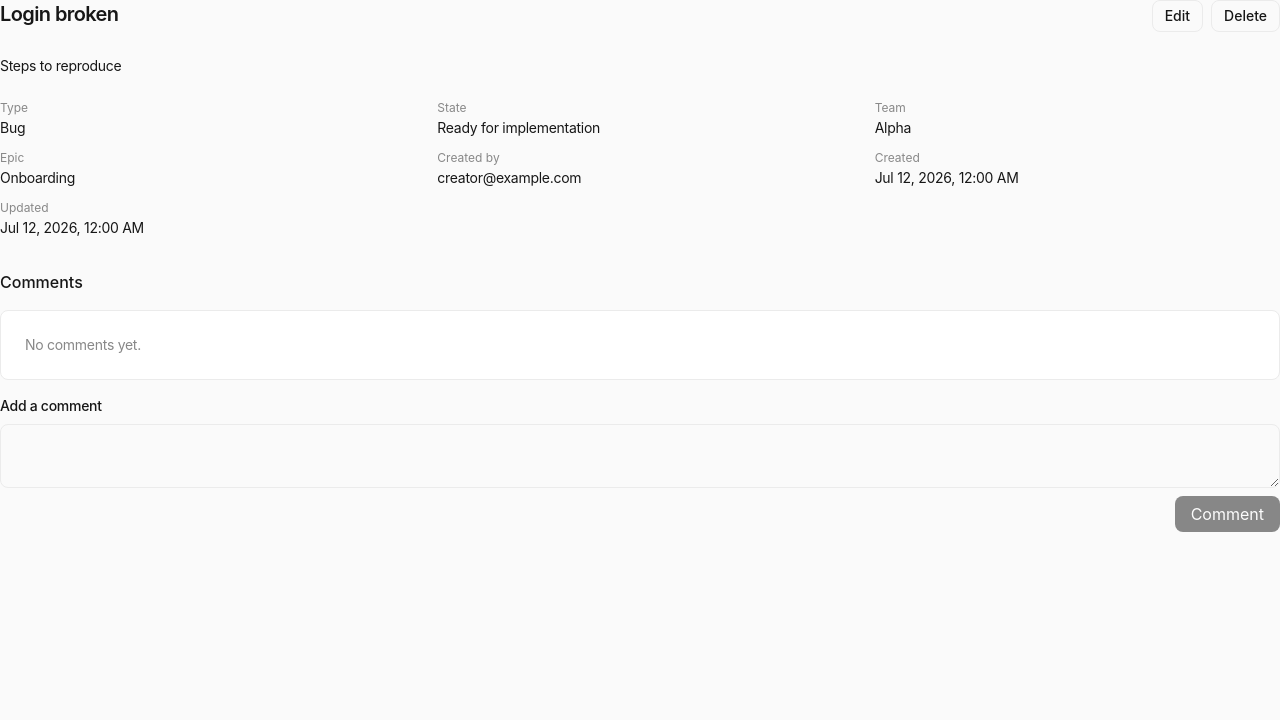
Scenario: TicketDetailsPage › edit_shouldUpdateView_whenSaved
Click the button "Edit". click: (1177, 16)
box: [1152, 0, 1203, 32]
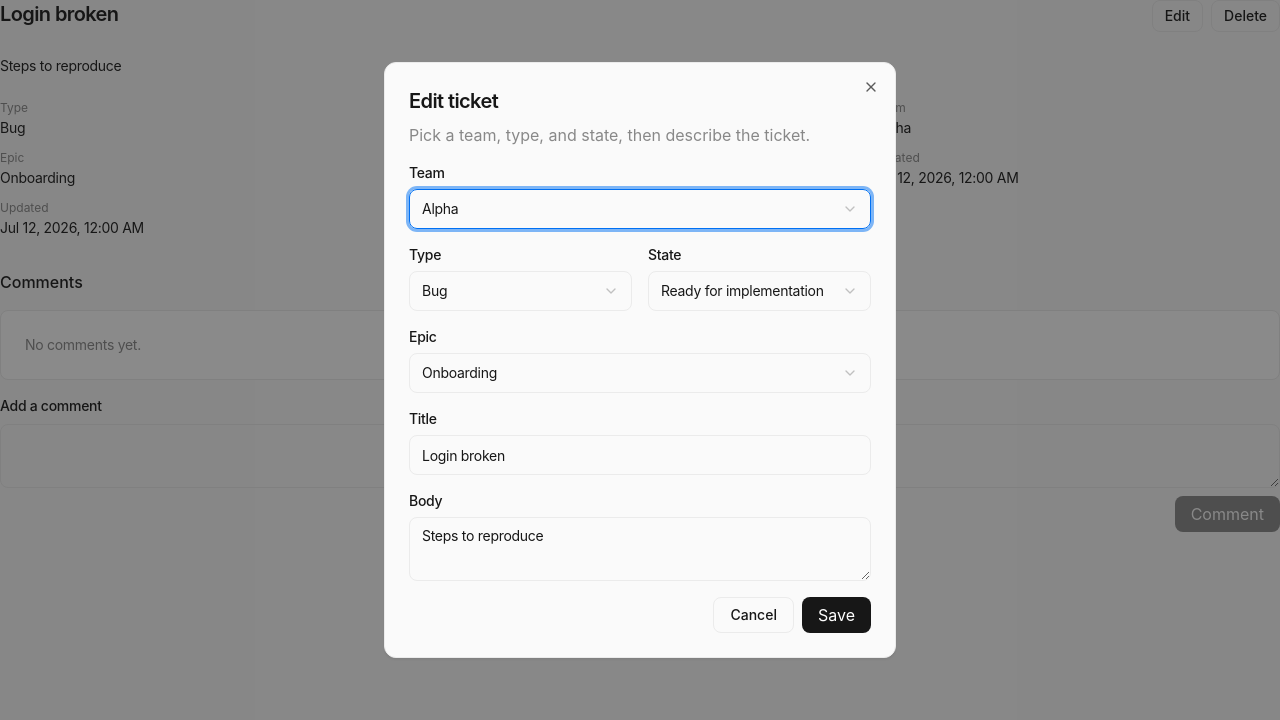
Replace the text in the field labelled "Title" with "Login page 500s". click: (640, 455)
box: [409, 435, 871, 475]
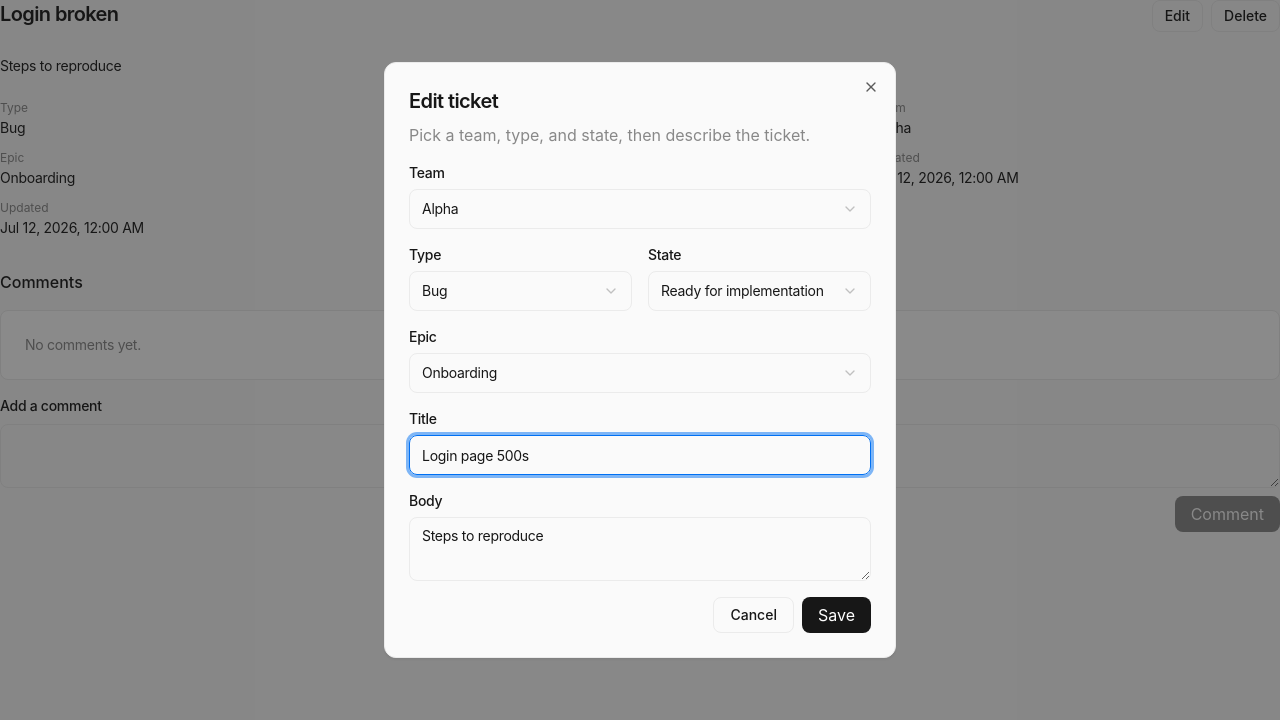
Click the button "Save". click: (836, 615)
box: [802, 597, 871, 633]
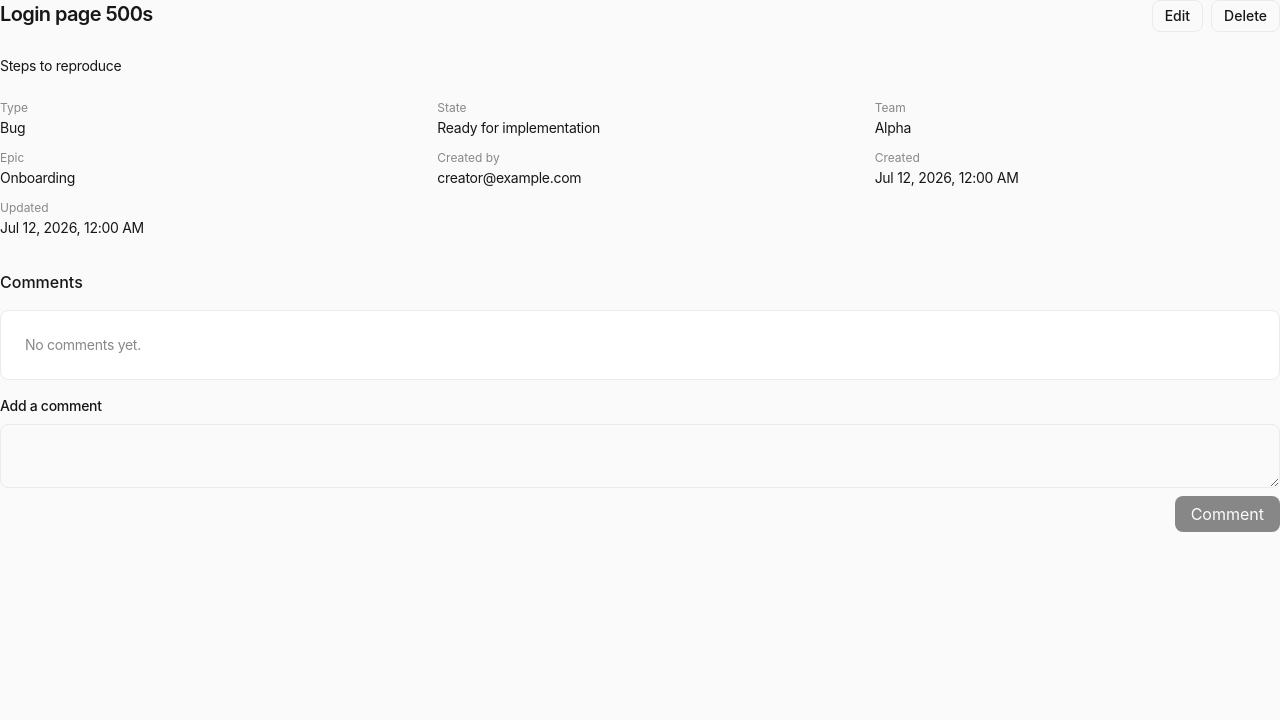
Now the heading "Login page 500s" is shown, box [0, 0, 153, 28]
